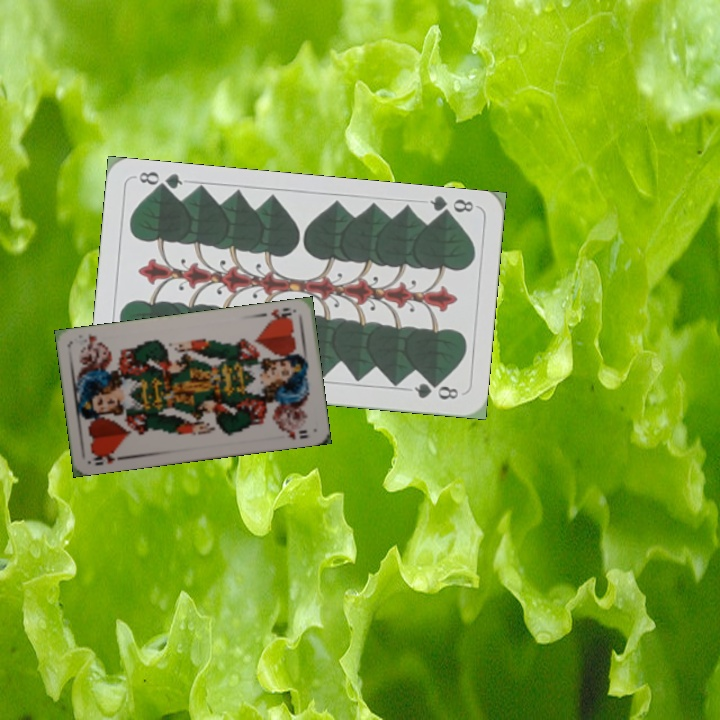G8: (426, 193, 476, 222)
HO: (86, 447, 127, 468), (263, 304, 298, 325)
